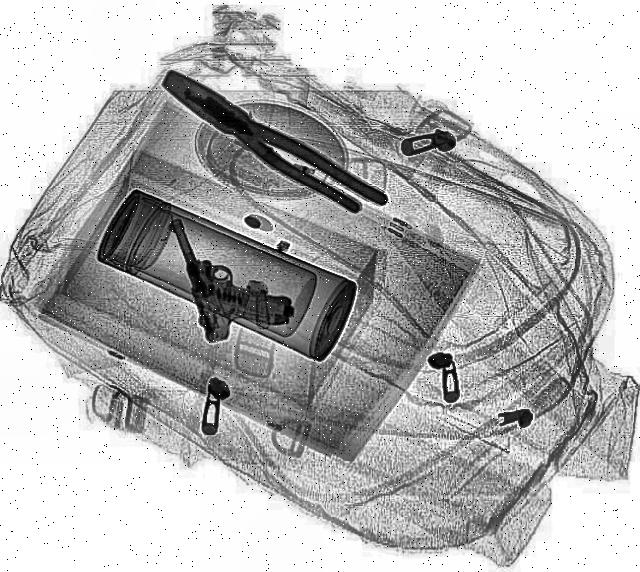Gun: (159, 196, 297, 350)
Pliers: (152, 62, 388, 228)
